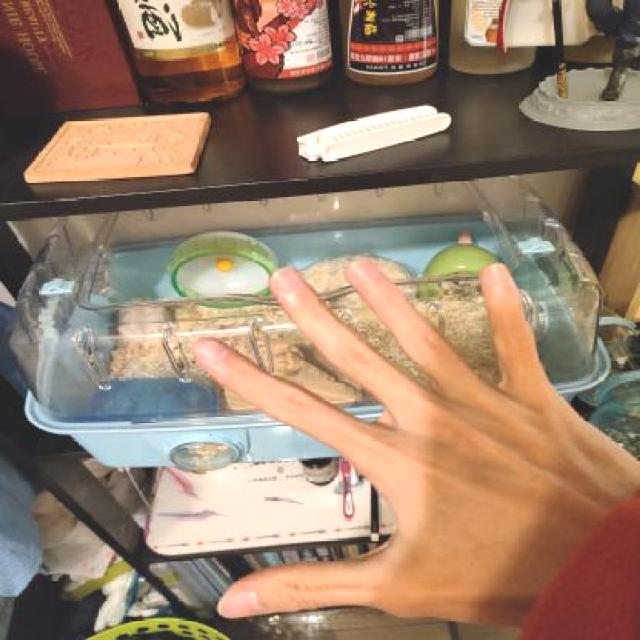no_glove: (168, 244, 634, 638)
